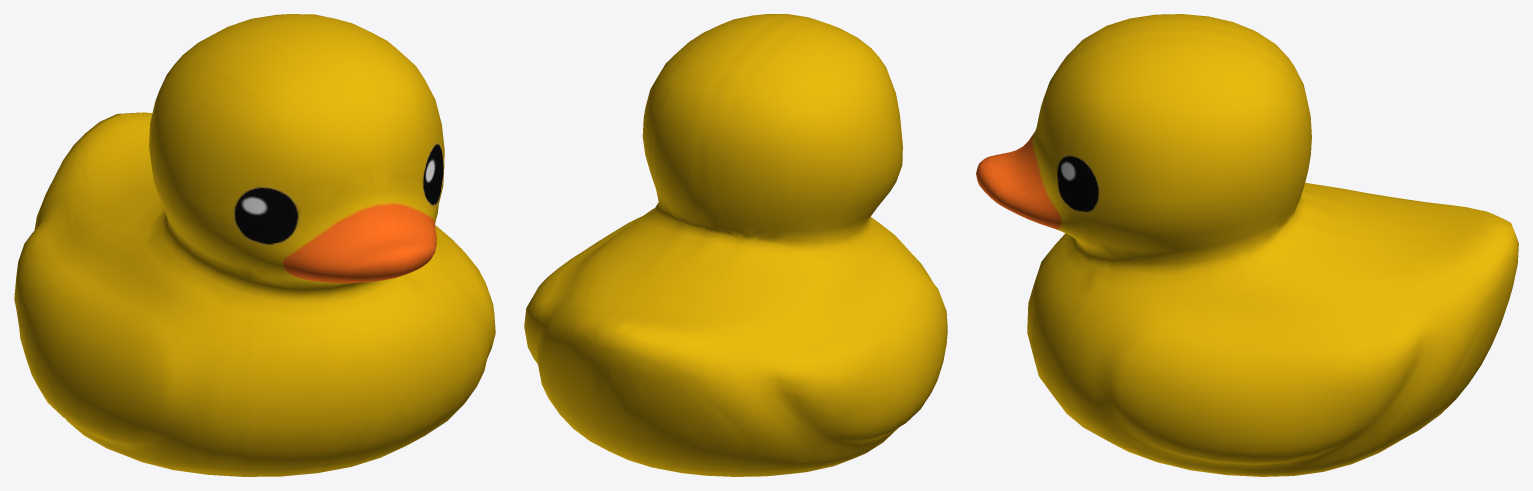
3 renders of one model, left to right at view 1: azimuth 30°, elevation 25°; view 2: azimuth 150°, elevation 25°; view 3: azimuth 270°, elevation 25°, orthographic. The views are drawn at different scales.
Parts seen in each view (by area): view 1: duck; view 2: duck; view 3: duck.
Part boxes in pixels (x1,y1,x2,y2): duck: (14,14,495,476); duck: (524,14,947,476); duck: (976,14,1518,476).
Size of the model in its own units: 1.06 by 1.03 by 1.32.
Materials: 2 (1 with a texture image).
